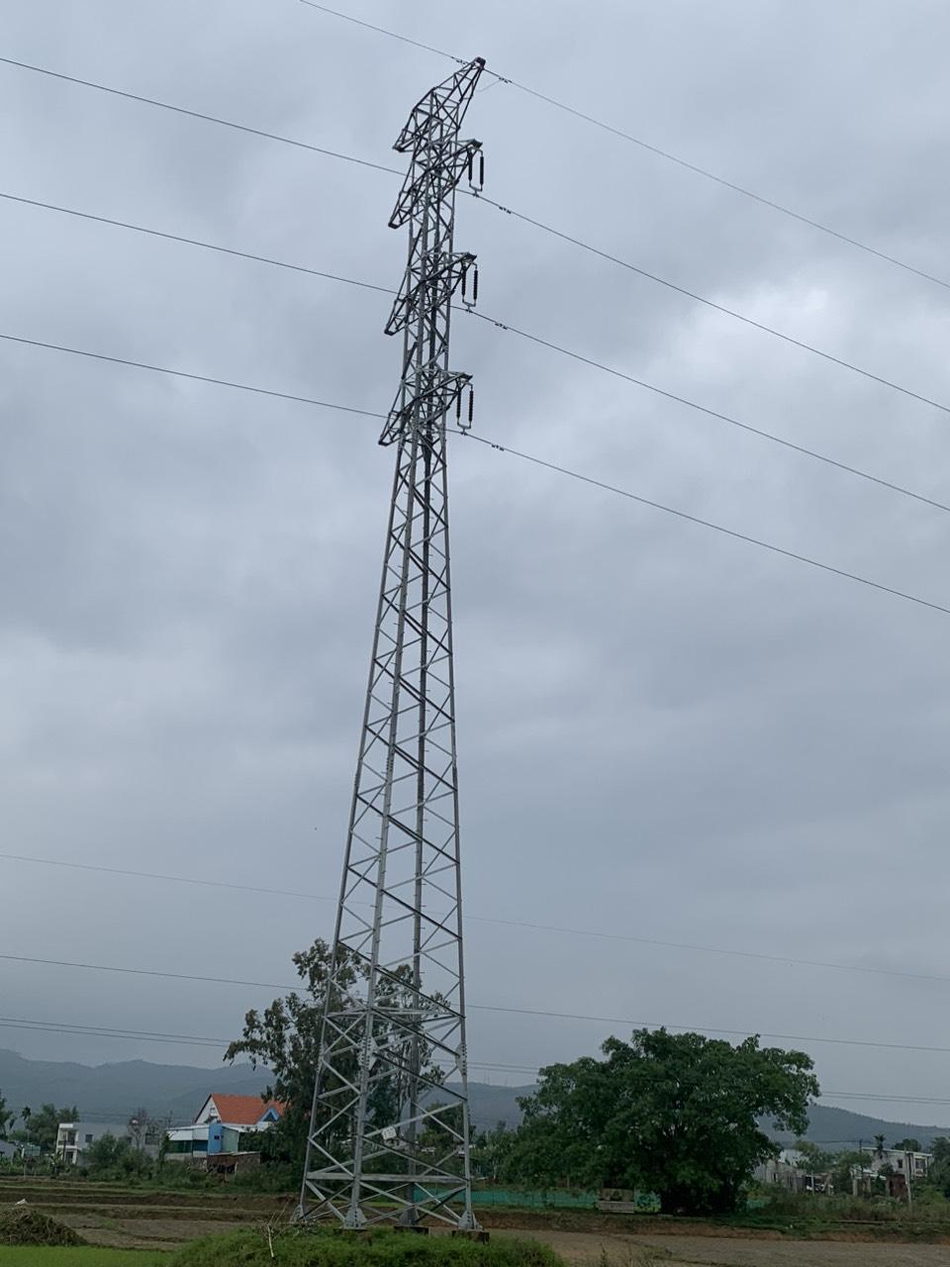power_tower: (297, 44, 497, 1225)
